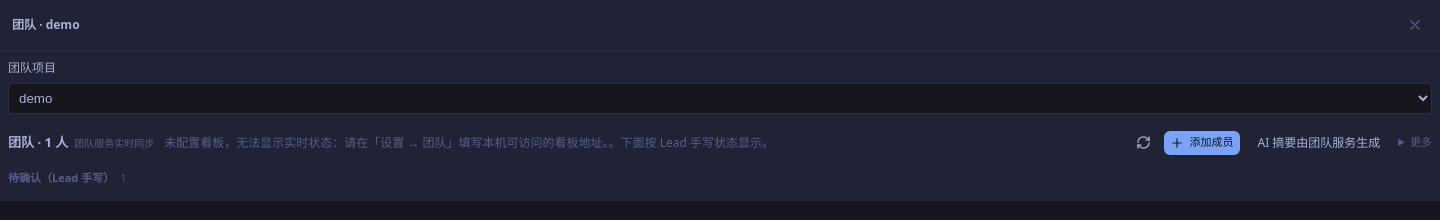
Test case: switches subscribed service projects without binding or writing a terminal profile
Select "other" in the dropdown labelled "团队项目" at coordinates (720, 98), box top-left (8, 83), bottom-right (1432, 114)
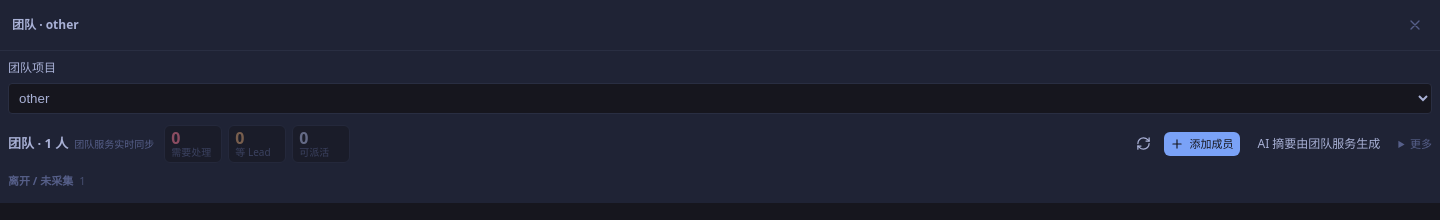
Expected: the text "团队 · other" is shown, top-left (12, 16), bottom-right (79, 34)
